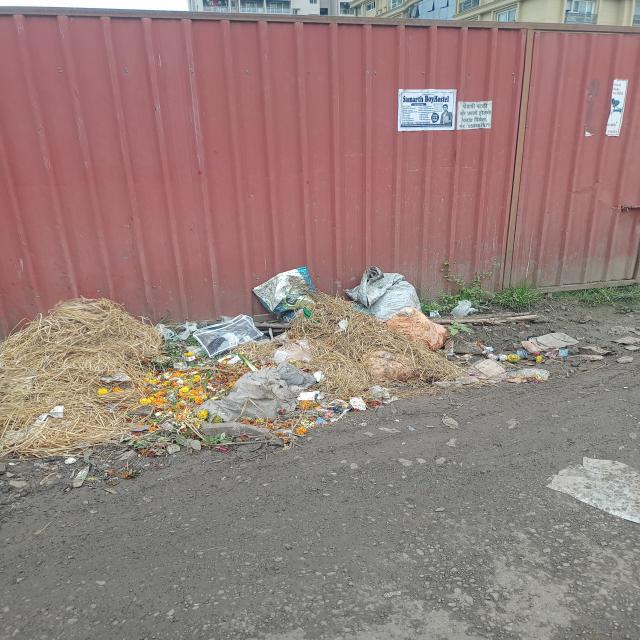garbage: (0, 299, 451, 448)
